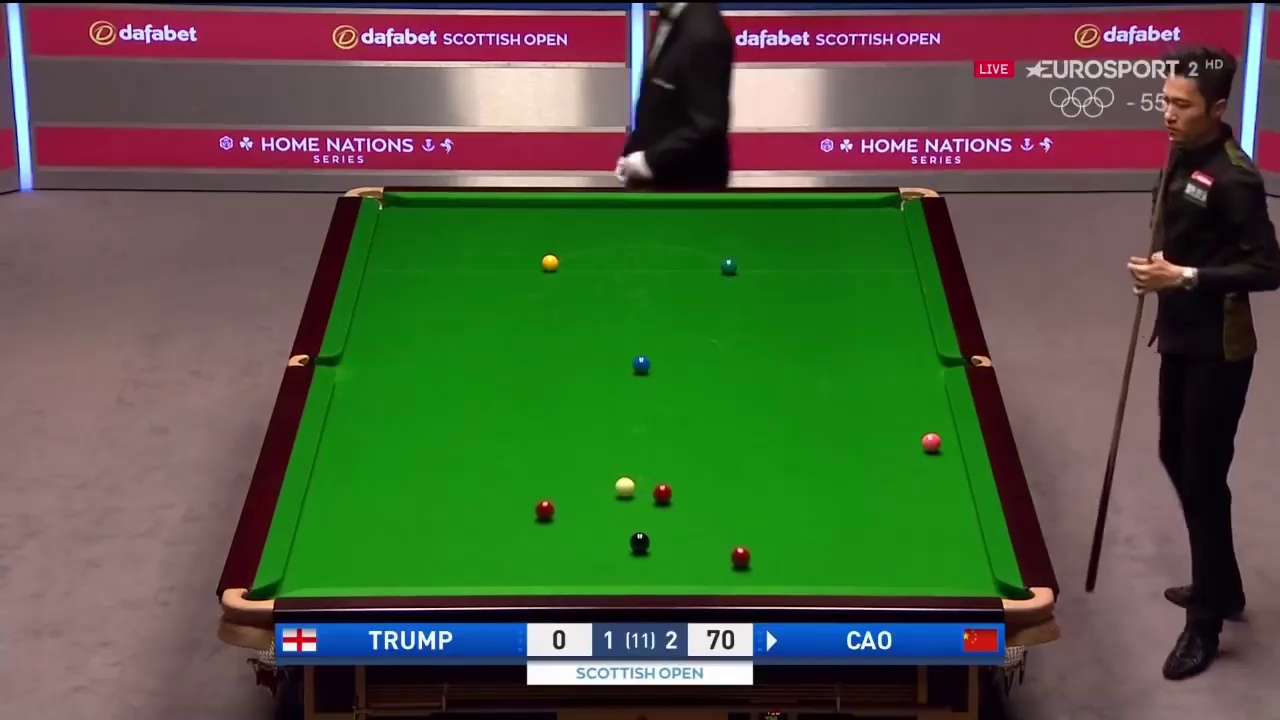black: (630, 532, 649, 555)
blue: (633, 353, 651, 373)
green: (721, 256, 738, 274)
pink: (919, 434, 943, 452)
red: (652, 483, 673, 505), (732, 546, 750, 570), (535, 500, 554, 519)
white: (614, 478, 636, 499)
yellow: (539, 253, 559, 271)
